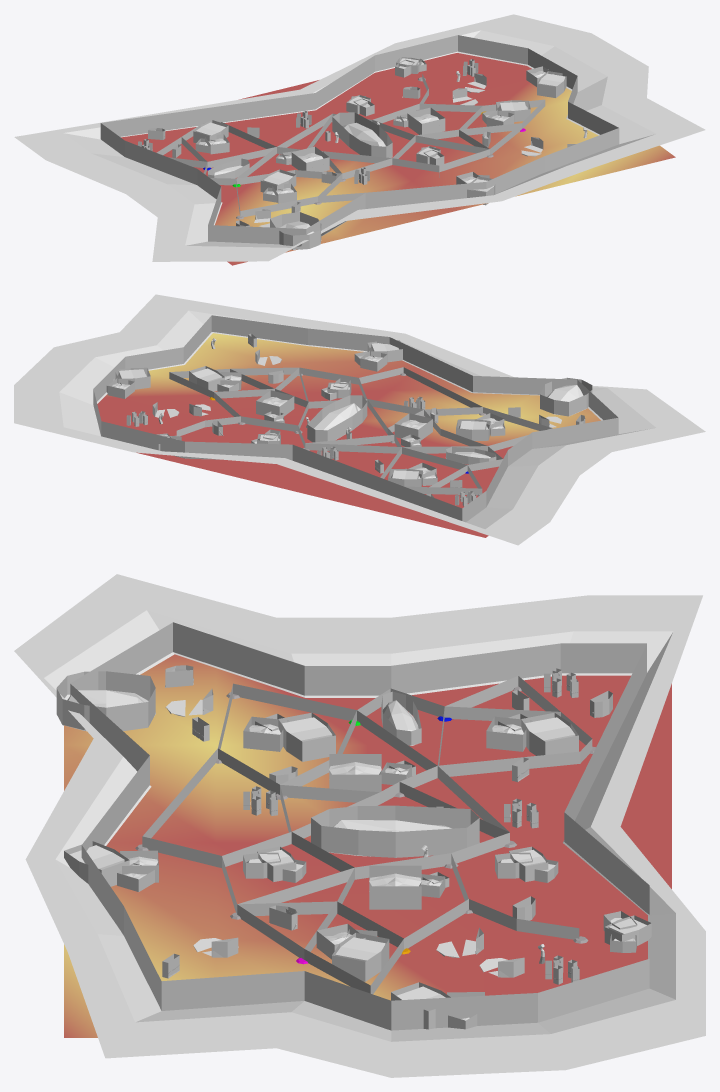
File: Campaign_Perseverance.fbx
The picture shows the model from 3 angles, top to bottom: view 1: azimuth 30°, elevation 25°; view 2: azimuth 150°, elevation 25°; view 3: azimuth 270°, elevation 25°; orthographic projection. The views are drawn at different scales.
Parts seen in each view (by area): view 1: GeometryWalls, GeometryGround, Boundary, Pathfinding, DecorBoundary Rock003, DecorBoundary Rock003.002, DecorBoundary Rock004.003, DecorBoundary Rock004, Decor Rock003, DecorBoundary Rock003.001, DecorBoundary Rock002.010; view 2: GeometryWalls, GeometryGround, Boundary, Pathfinding, DecorBoundary Rock003, DecorBoundary Rock003.002, DecorBoundary Rock004, DecorBoundary Rock004.003, DecorBoundary Rock003.001, Decor Rock003, DecorBoundary Rock002.006, Decor Rock003.002; view 3: GeometryWalls, GeometryGround, Boundary, Pathfinding, DecorBoundary Rock003, DecorBoundary Rock003.002, DecorBoundary Rock004.003, DecorBoundary Rock004, DecorBoundary Rock002.006, DecorBoundary Rock002.008, DecorBoundary Rock002.007, Decor Rock003 (+8 smaller).
Part boxes in pixels (left/top/right/bottom): GeometryWalls: left=14, top=14, right=705, bottom=261; GeometryGround: left=121, top=53, right=675, bottom=265; Boundary: left=100, top=35, right=619, bottom=244; Pathfinding: left=156, top=74, right=545, bottom=216; DecorBoundary Rock003: left=332, top=112, right=392, bottom=157; DecorBoundary Rock003.002: left=270, top=212, right=321, bottom=249; DecorBoundary Rock004.003: left=407, top=107, right=445, bottom=134; DecorBoundary Rock004: left=291, top=146, right=329, bottom=171; Decor Rock003: left=333, top=122, right=392, bottom=157; DecorBoundary Rock003.001: left=208, top=158, right=249, bottom=178; DecorBoundary Rock002.010: left=537, top=71, right=566, bottom=97; GeometryWalls: left=14, top=294, right=705, bottom=545; GeometryGround: left=97, top=333, right=600, bottom=537; Boundary: left=93, top=315, right=618, bottom=522; Pathfinding: left=169, top=367, right=552, bottom=495; DecorBoundary Rock003: left=307, top=395, right=367, bottom=442; DecorBoundary Rock003.002: left=540, top=377, right=592, bottom=416; DecorBoundary Rock004: left=394, top=413, right=432, bottom=440; DecorBoundary Rock004.003: left=256, top=390, right=294, bottom=416; DecorBoundary Rock003.001: left=446, top=447, right=496, bottom=464; Decor Rock003: left=314, top=403, right=360, bottom=439; DecorBoundary Rock002.006: left=456, top=419, right=490, bottom=440; Decor Rock003.002: left=547, top=385, right=585, bottom=415; GeometryWalls: left=14, top=574, right=705, bottom=1077; GeometryGround: left=64, top=654, right=671, bottom=1037; Boundary: left=70, top=622, right=649, bottom=1030; Pathfinding: left=142, top=676, right=592, bottom=994; DecorBoundary Rock003: left=311, top=805, right=479, bottom=857; DecorBoundary Rock003.002: left=56, top=671, right=155, bottom=731; DecorBoundary Rock004.003: left=369, top=865, right=421, bottom=909; DecorBoundary Rock004: left=329, top=754, right=381, bottom=792; DecorBoundary Rock002.006: left=278, top=712, right=335, bottom=761; DecorBoundary Rock002.008: left=332, top=932, right=389, bottom=981; DecorBoundary Rock002.007: left=521, top=712, right=578, bottom=755; Decor Rock003: left=328, top=820, right=451, bottom=856.
Bounding box in the file's own units: 35122 × 1397 × 20383.
